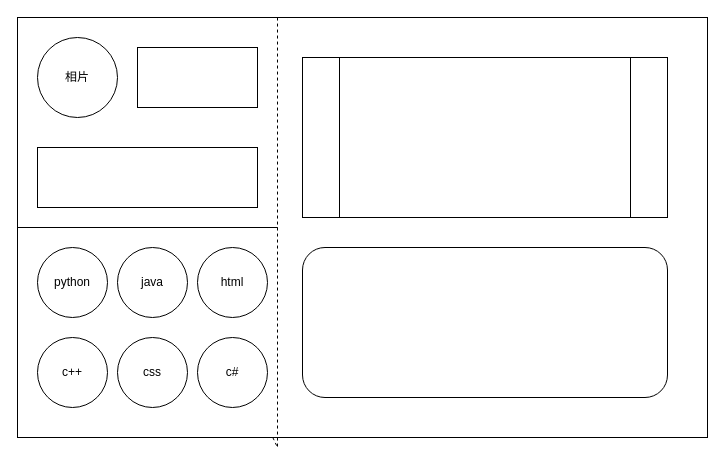
This 725x466 diagram has some shape labels left out. Each missing label, with the centre of its shape:
作品: point 485,322
姓名: point 197,77
經歷: point 485,137
自我介紹: point 147,177
